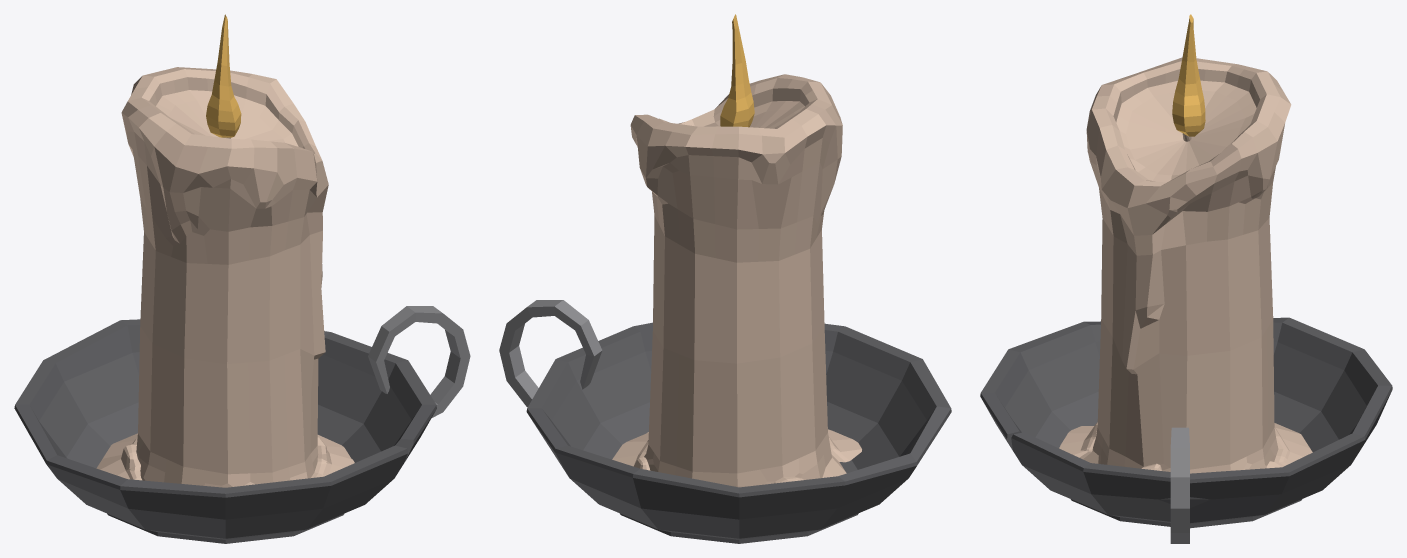
File: WF_LP_HT_Props_Candle.002.fbx
3 views of the same model, side by side, from view 1: azimuth 30°, elevation 25°; view 2: azimuth 150°, elevation 25°; view 3: azimuth 270°, elevation 25° (orthographic). The views are drawn at different scales.
Parts seen in each view (by area): view 1: WF_LP_HT_Props_Candle.002; view 2: WF_LP_HT_Props_Candle.002; view 3: WF_LP_HT_Props_Candle.002.
Part boxes in pixels (x1=…): WF_LP_HT_Props_Candle.002: x1=14, y1=14, x2=470, y2=543; WF_LP_HT_Props_Candle.002: x1=499, y1=14, x2=951, y2=543; WF_LP_HT_Props_Candle.002: x1=980, y1=14, x2=1392, y2=543.
Size of the model in its own units: 0.181 by 0.1961 by 0.1596.
